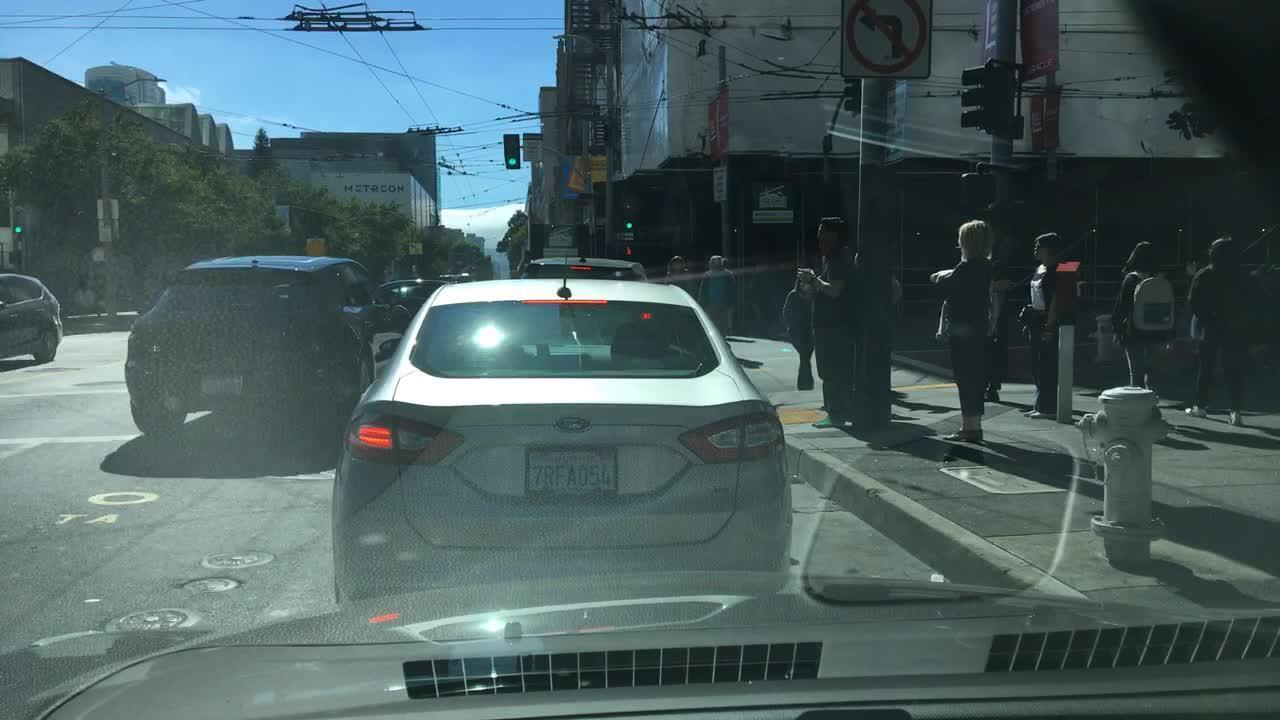ford: (546, 410, 594, 440)
